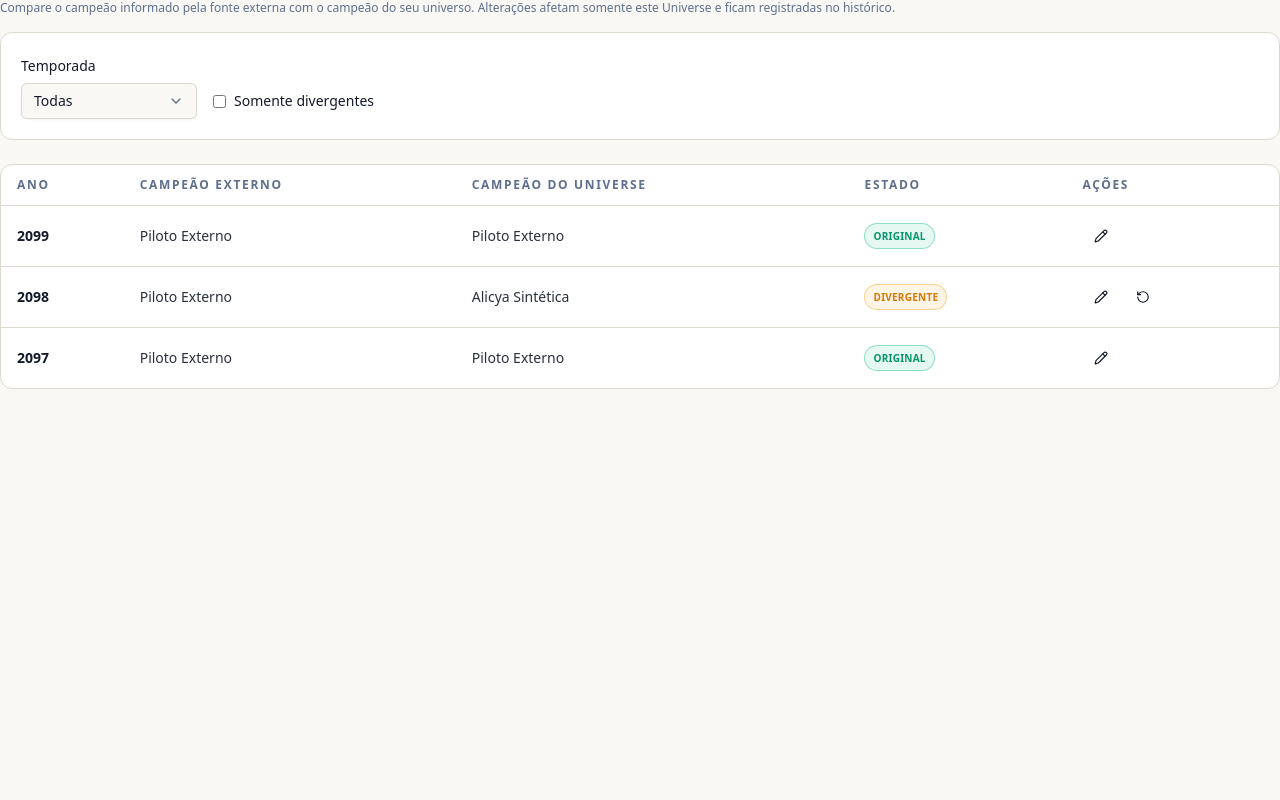
Test: ChampionsPanel › 3) lista anos com estados; derivado abre explicação e editável abre modal
This screenshot has width=1280, height=800.
Expected: the text "2099" is shown, [1,206,124,266]
Expected: the text "2098" is shown, [1,266,124,328]
Click the button named "Editar campeão de 2097": (1101, 358) [1082,340,1120,376]
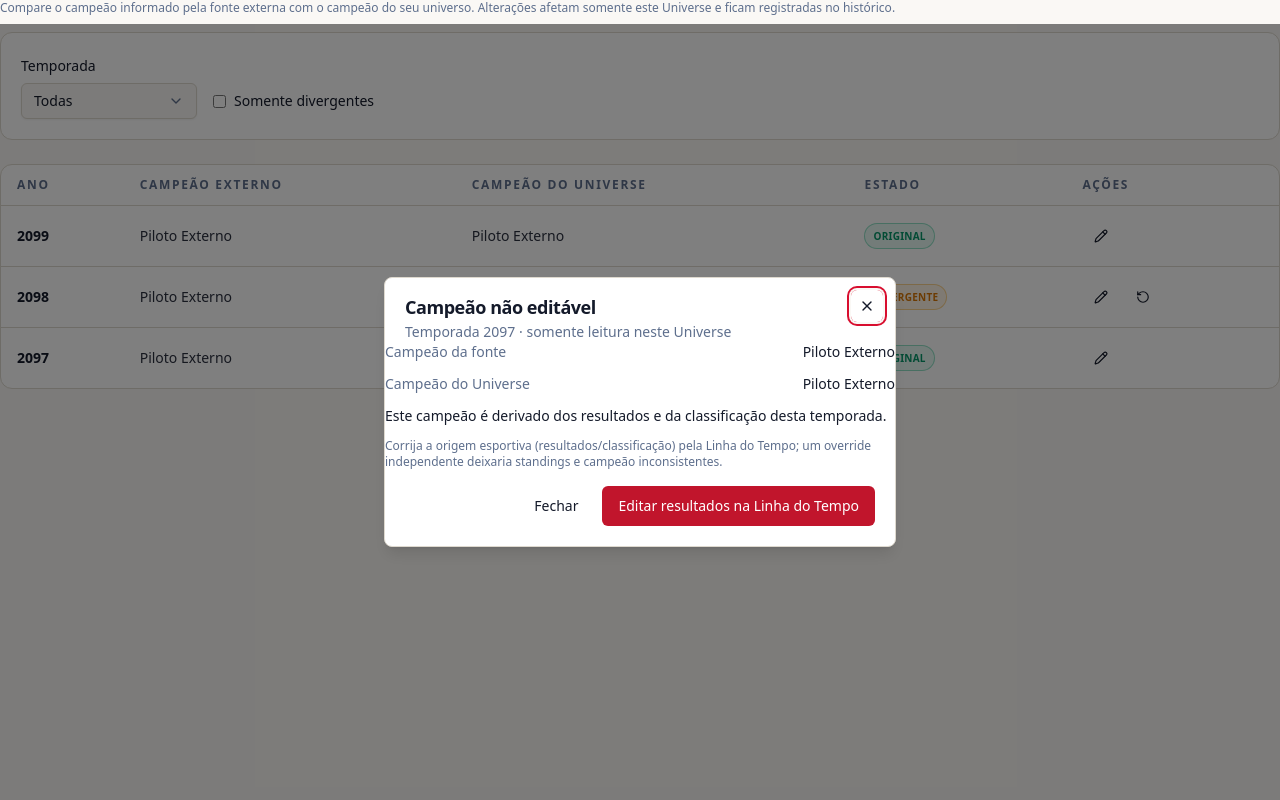
Expected: the heading "Campeão não editável" is shown, [405,295,596,319]
Expected: the text "derivado dos resultados e da classificação" is shown, [385,406,886,425]
Click the button "Editar resultados na Linha do Tempo": (739, 506) [602,486,875,526]
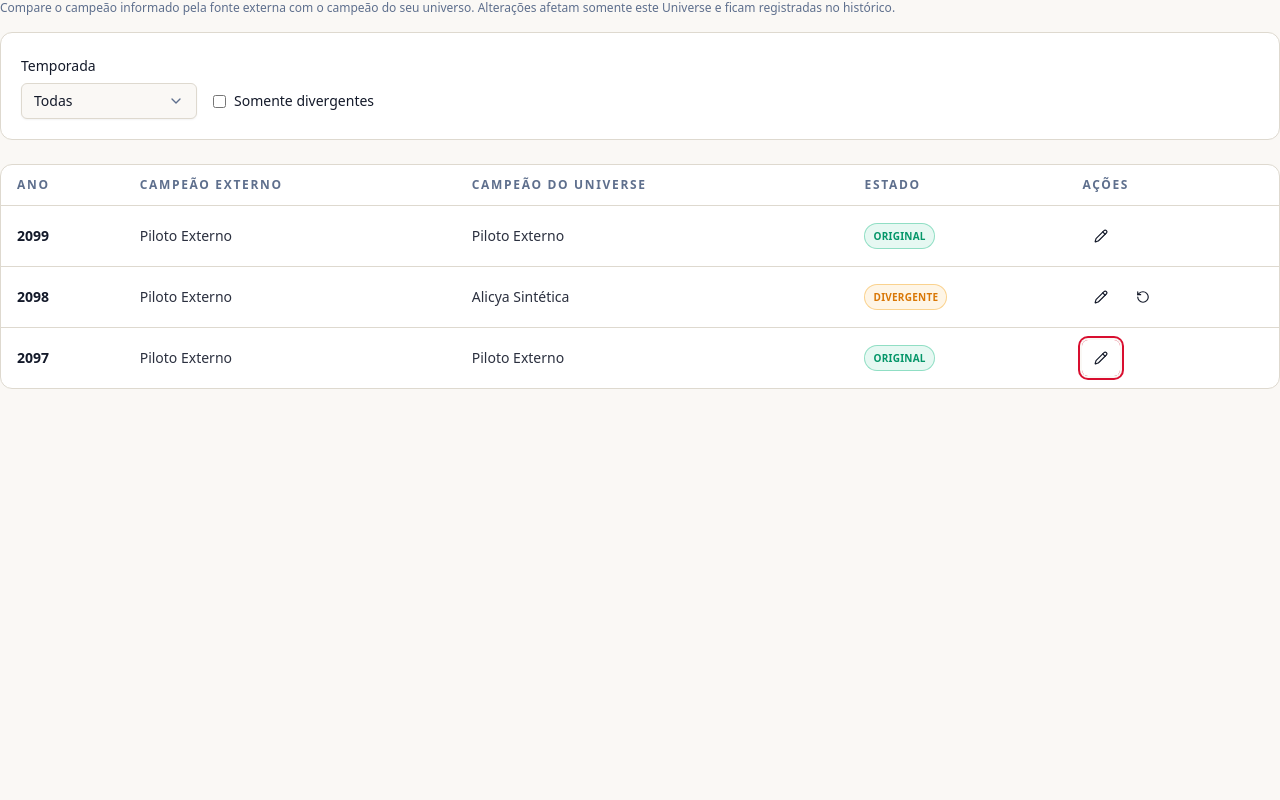
Click the button named "Editar campeão de 2099": (1101, 236) [1082,218,1120,254]
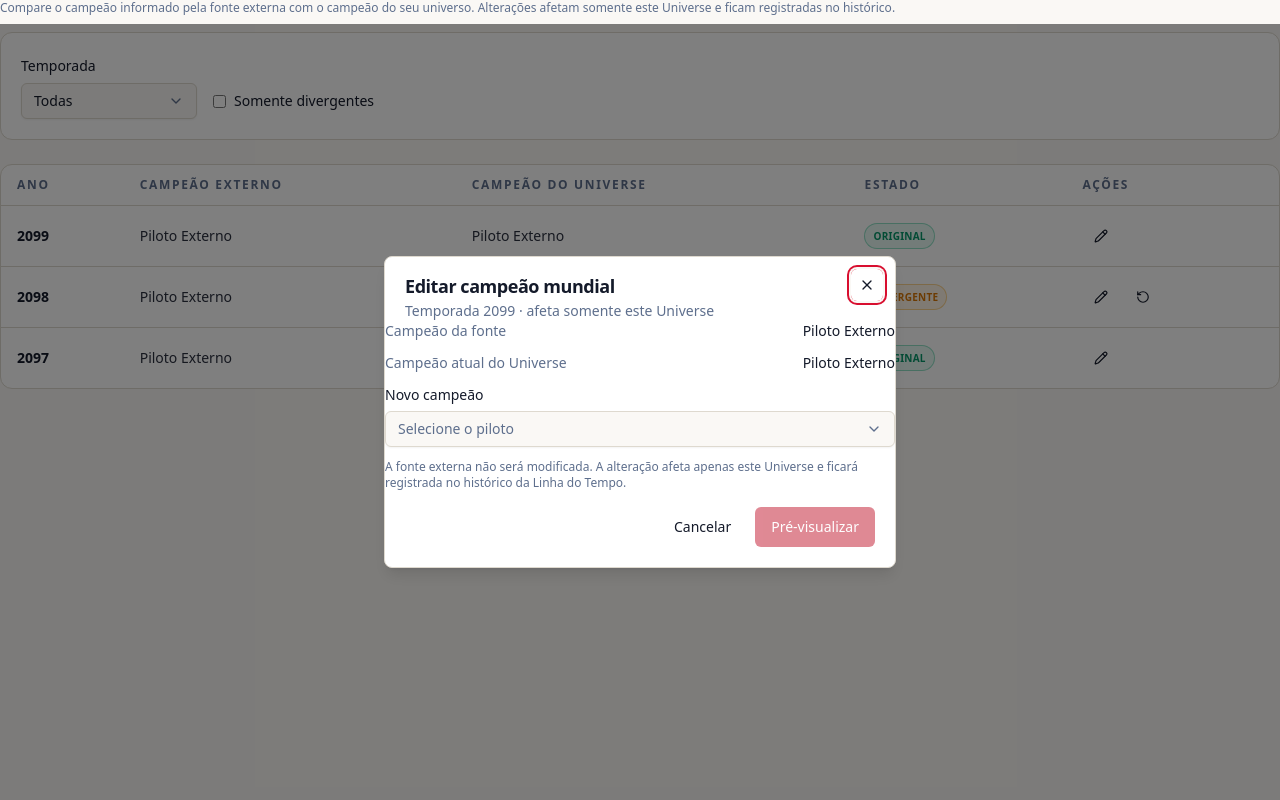
Expected: the heading "Editar campeão mundial" is shown, [405,274,615,298]
